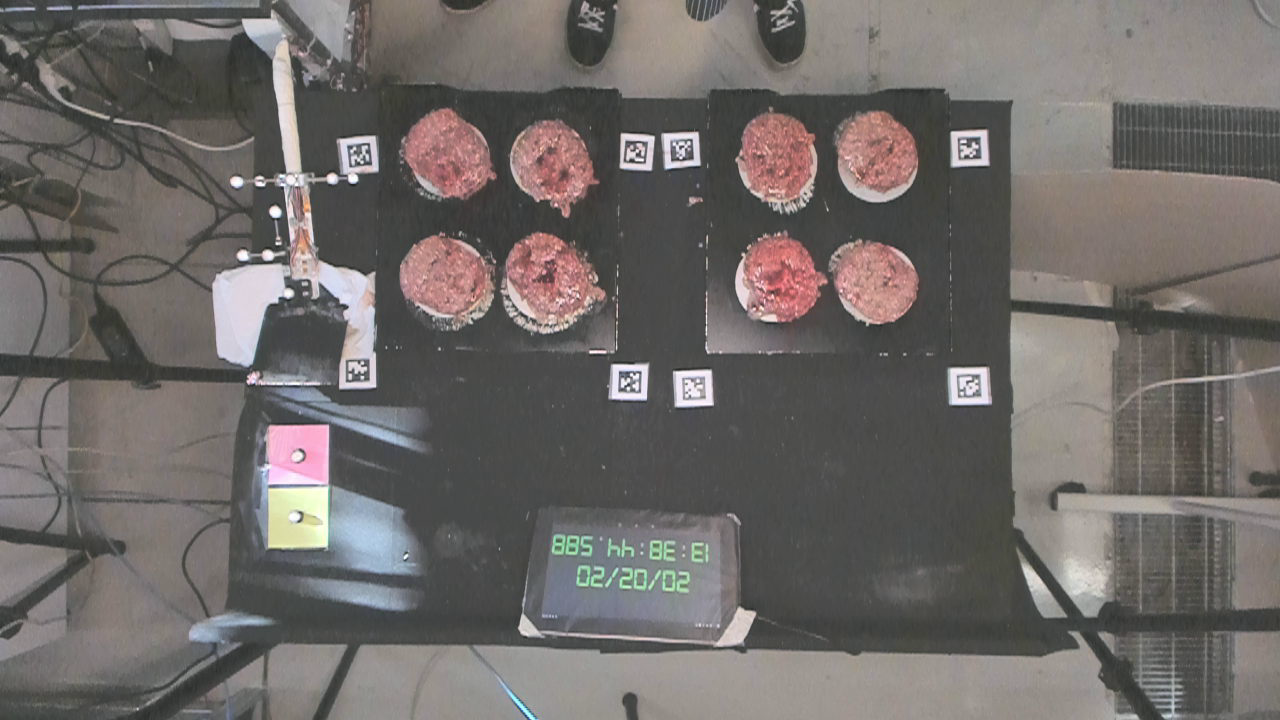hamburger: (833, 226, 920, 326), (401, 105, 489, 200), (503, 230, 589, 324), (838, 106, 921, 201), (737, 107, 815, 208), (740, 228, 820, 326), (397, 232, 487, 319), (507, 111, 591, 199)
marker: (264, 422, 334, 485)
